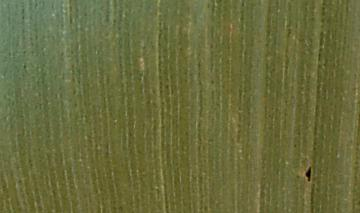tarspot: (301, 162, 316, 184)
